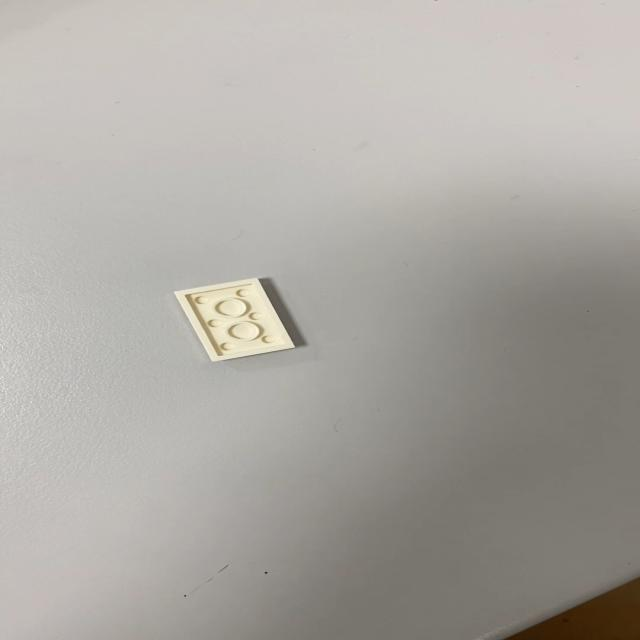C3x2x0: (170, 277, 294, 363)
